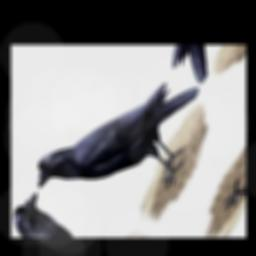Crow: (27, 51, 222, 227)
